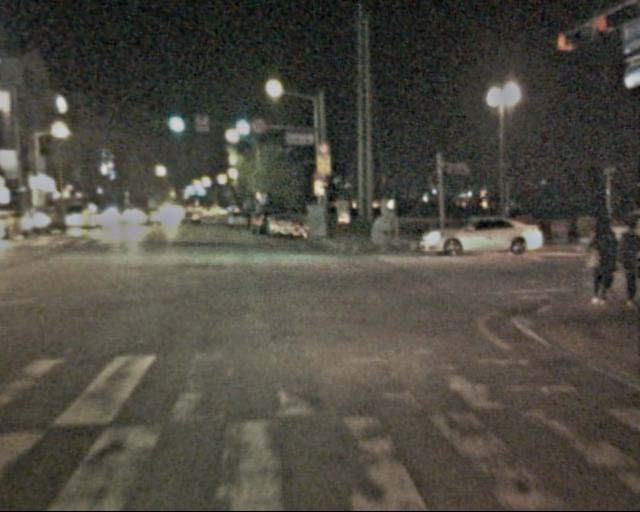person: (579, 213, 624, 310), (614, 217, 640, 307)
